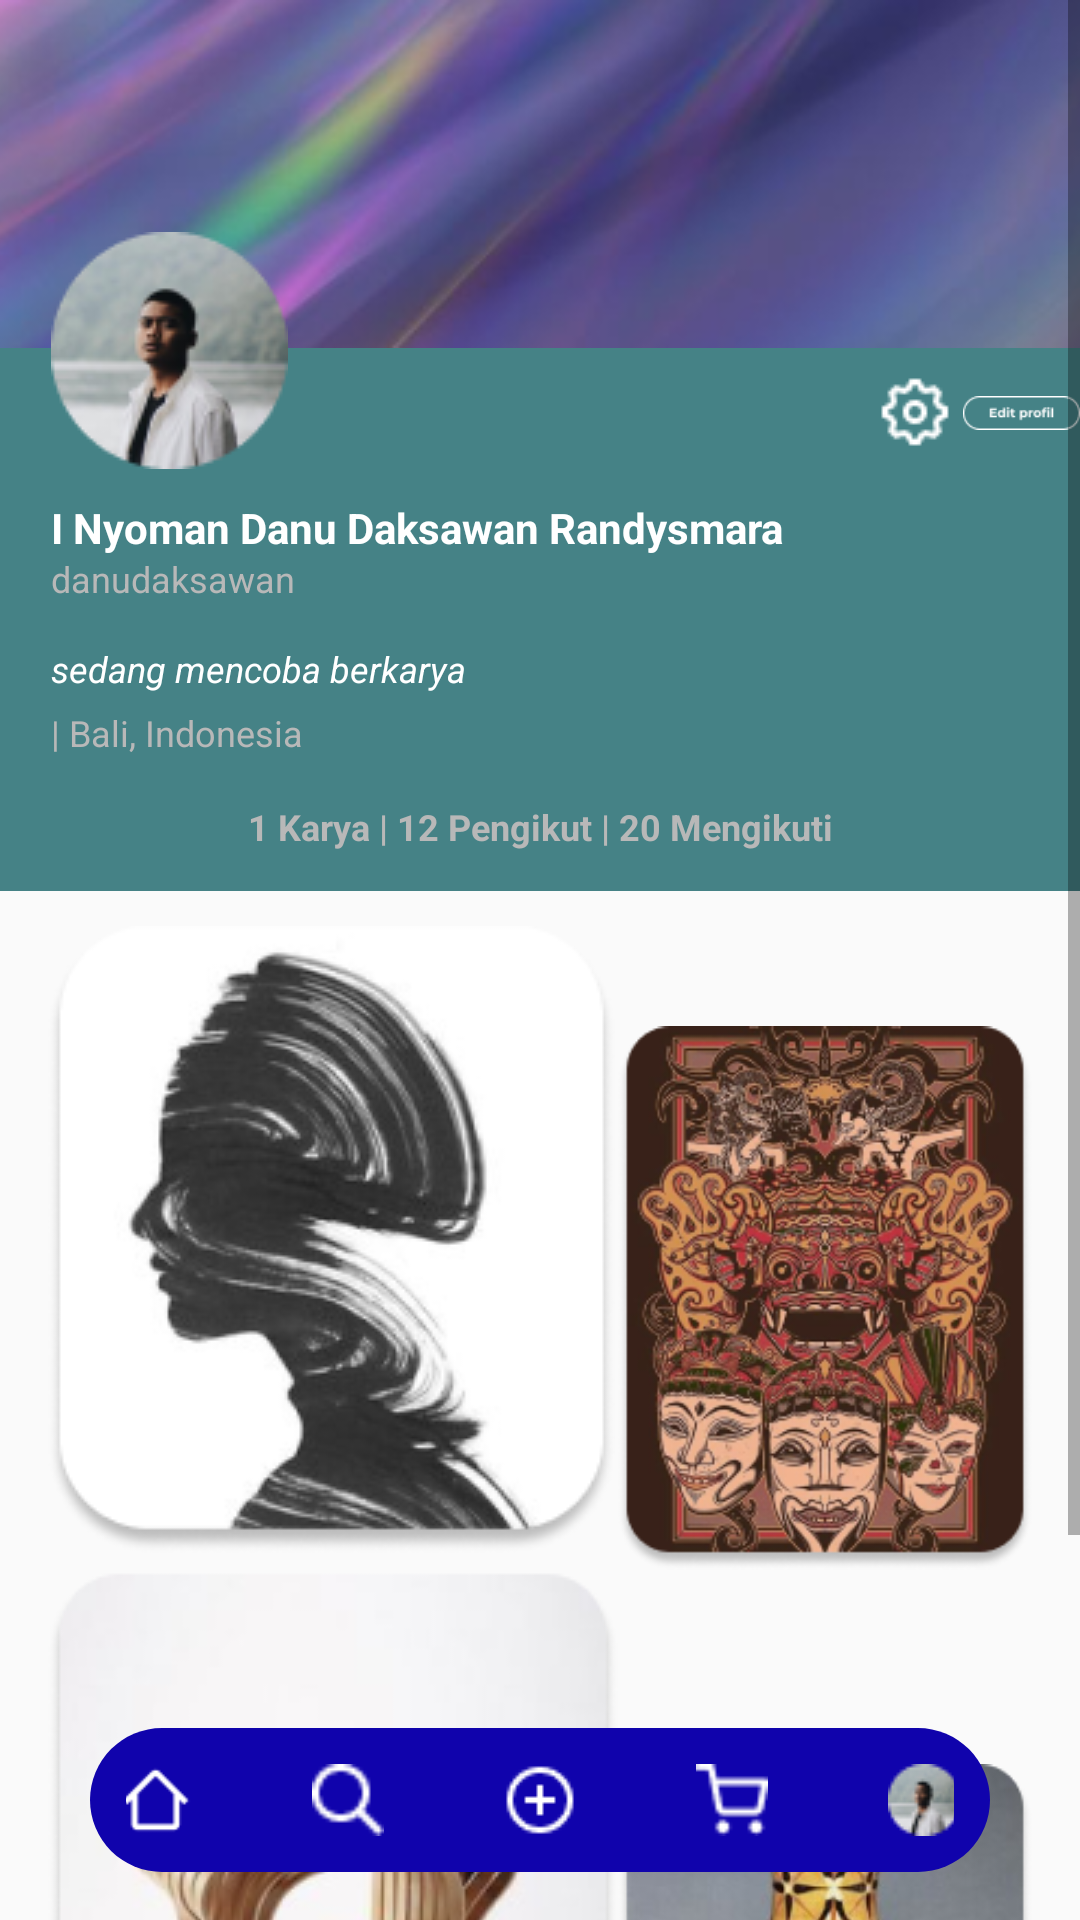

Where to tap for icons on this 1080 × 1920 app screen, as [x,y]:
fotoprofil: [169,350]
home: [157,1800]
profile: [921,1800]
search: [348,1800]
settings: [915,412]
shop: [732,1800]
tambah: [540,1800]
